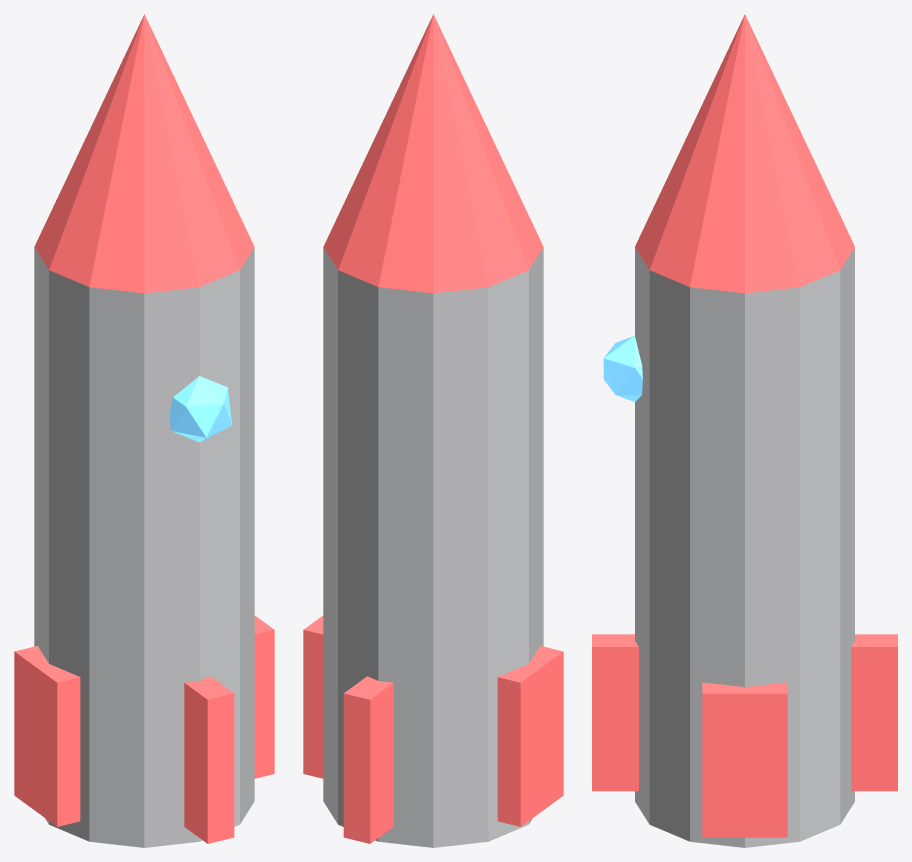
File: rocket.glb
3 views of the same model, side by side, from view 1: azimuth 30°, elevation 25°; view 2: azimuth 150°, elevation 25°; view 3: azimuth 270°, elevation 25° (orthographic).
Parts seen in each view (by area): view 1: rocket; view 2: rocket; view 3: rocket.
Boxes of the visible parts, bbox=[...] form: rocket: bbox=[14, 14, 274, 847]; rocket: bbox=[303, 14, 563, 847]; rocket: bbox=[592, 14, 897, 847].
Size of the model in its own units: 0.41 by 1.47 by 0.5.
